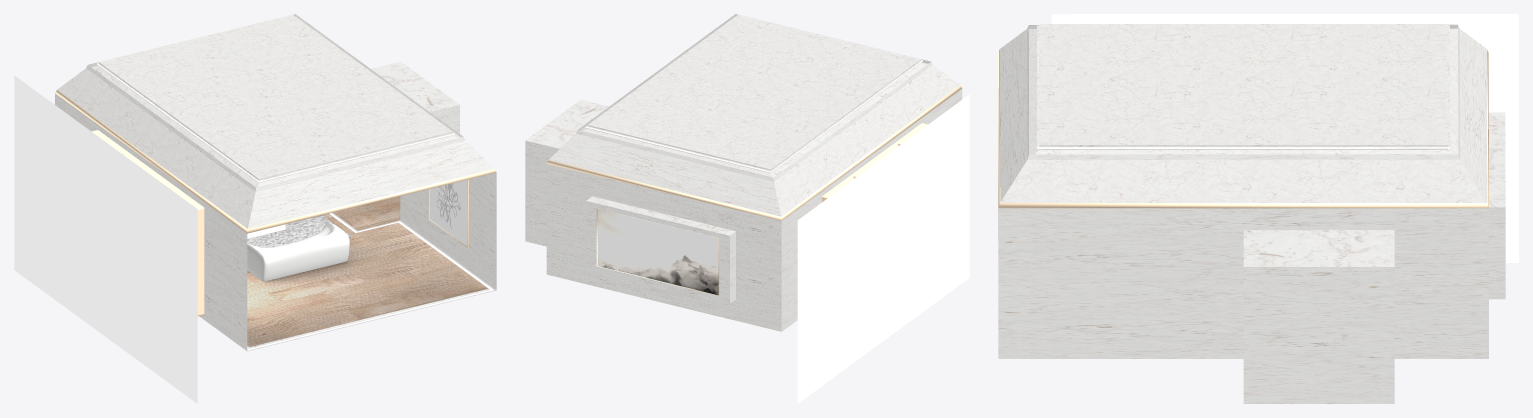
File: room-living.glb
The picture shows the model from 3 angles, left to right: view 1: azimuth 30°, elevation 25°; view 2: azimuth 150°, elevation 25°; view 3: azimuth 270°, elevation 25°; orthographic projection. The views are drawn at different scales.
Visible parts, largest first — view 1: Modern_Living_Room_Walls_0, Modern_Living_Room_Backdrop_0, Modern_Living_Room_Planks_0, Modern_Living_Room_Frame_0, Modern_Living_Room_Sofa_0, Modern_Living_Room_Painting_0, Modern_Living_Room_Floor_0, Modern_Living_Room_Carpet_0; view 2: Modern_Living_Room_Walls_0, Modern_Living_Room_Backdrop_0, Modern_Living_Room_TVScreen_0, Modern_Living_Room_Frame_0; view 3: Modern_Living_Room_Walls_0, Modern_Living_Room_Backdrop_0, Modern_Living_Room_Frame_0.
Boxes of the visible parts, bbox=[...] form: Modern_Living_Room_Walls_0: bbox=[55, 14, 496, 350]; Modern_Living_Room_Backdrop_0: bbox=[14, 63, 493, 403]; Modern_Living_Room_Planks_0: bbox=[247, 196, 487, 346]; Modern_Living_Room_Frame_0: bbox=[55, 90, 496, 316]; Modern_Living_Room_Sofa_0: bbox=[247, 222, 349, 281]; Modern_Living_Room_Painting_0: bbox=[429, 180, 467, 246]; Modern_Living_Room_Floor_0: bbox=[247, 213, 496, 351]; Modern_Living_Room_Carpet_0: bbox=[247, 215, 351, 247]; Modern_Living_Room_Walls_0: bbox=[525, 14, 962, 331]; Modern_Living_Room_Backdrop_0: bbox=[586, 60, 969, 403]; Modern_Living_Room_TVScreen_0: bbox=[597, 209, 718, 295]; Modern_Living_Room_Frame_0: bbox=[547, 85, 961, 295]; Modern_Living_Room_Walls_0: bbox=[998, 24, 1505, 403]; Modern_Living_Room_Backdrop_0: bbox=[1037, 14, 1518, 262]; Modern_Living_Room_Frame_0: bbox=[998, 49, 1488, 208].
Size of the model in its own units: 4.79 by 2.91 by 5.
15 materials, 10 textured.
